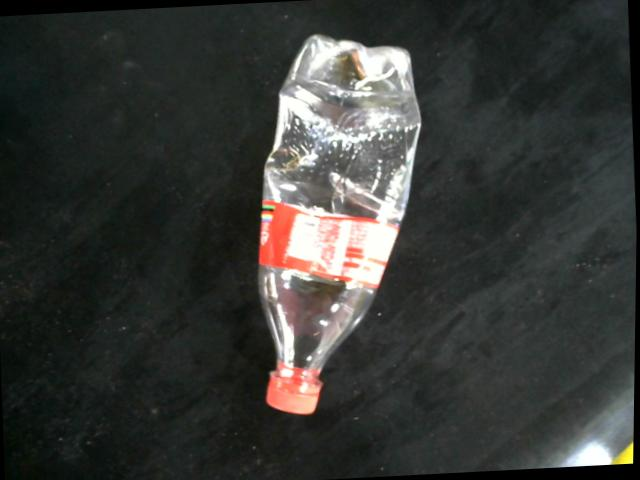bottle: (258, 32, 424, 415)
